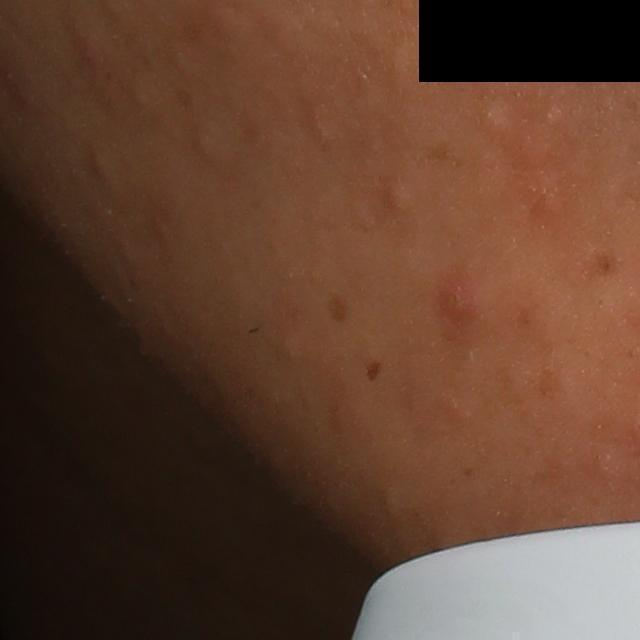comedo: (124, 73, 155, 113), (382, 183, 416, 216), (189, 131, 222, 164), (90, 150, 115, 187)
papule: (78, 39, 105, 73)
